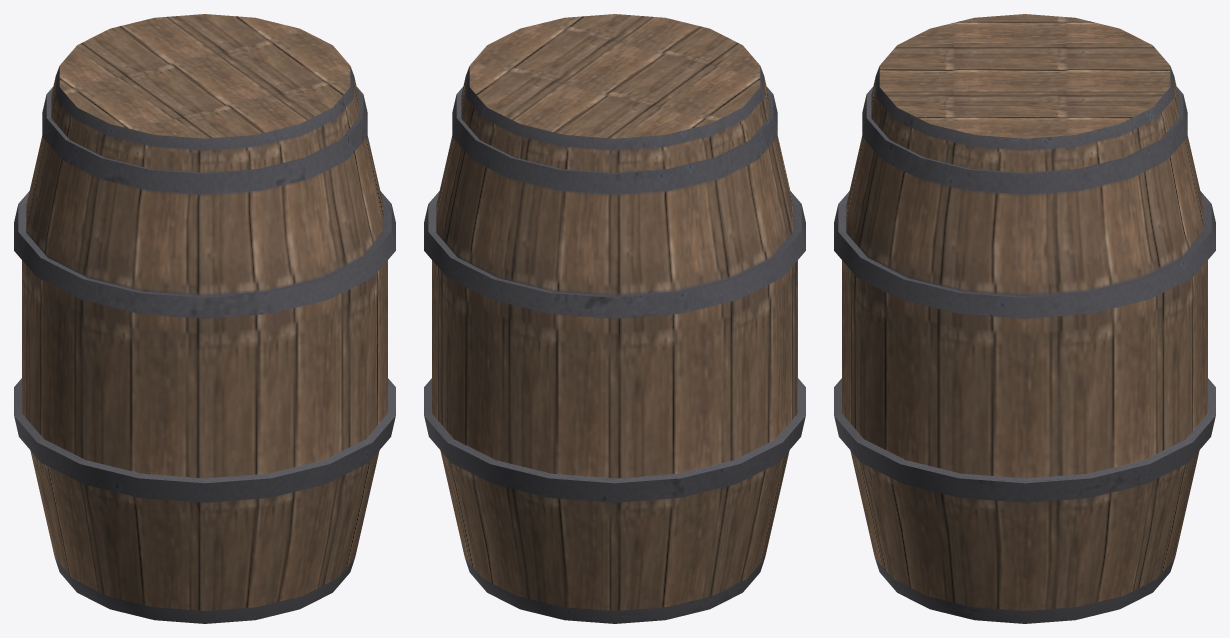
File: Barrel.FBX
3 views of the same model, side by side, from view 1: azimuth 30°, elevation 25°; view 2: azimuth 150°, elevation 25°; view 3: azimuth 270°, elevation 25° (orthographic).
Visible parts, largest first — view 1: barrelandbucket; view 2: barrelandbucket; view 3: barrelandbucket.
Boxes of the visible parts, box(x1,y1,x2,y2) form: barrelandbucket: box(14, 14, 395, 623); barrelandbucket: box(424, 14, 805, 623); barrelandbucket: box(834, 14, 1215, 623).
Size of the model in its own units: 37.79 by 52.19 by 37.22.
